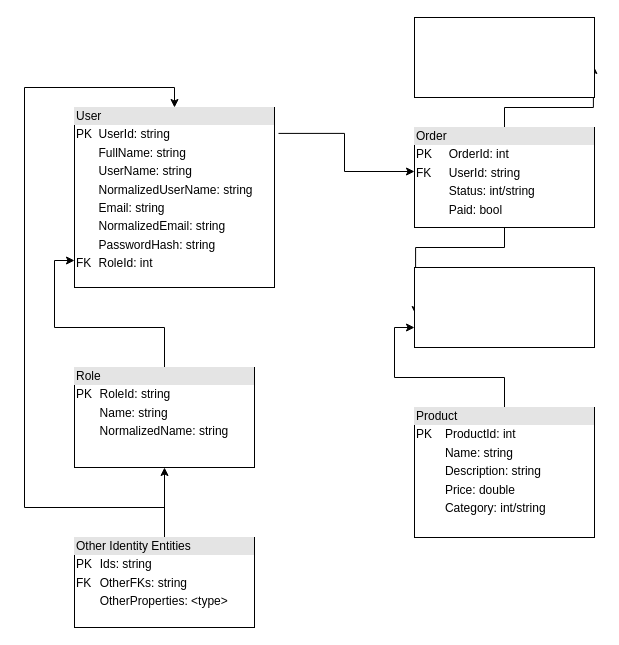
This 619x645 diagram has some shape labels left out. The shapes that lost their labels are listed below. From the top down, each one's box as (x1, y1, x2, y2) in pixels, then its label:
(414, 16, 594, 98): Invoice PK InvoiceId: int FK OrderId: int WithCard: bool
(414, 266, 594, 348): Order-Product PK OrderProductId: int FK OrderId: int FK ProductId: int
